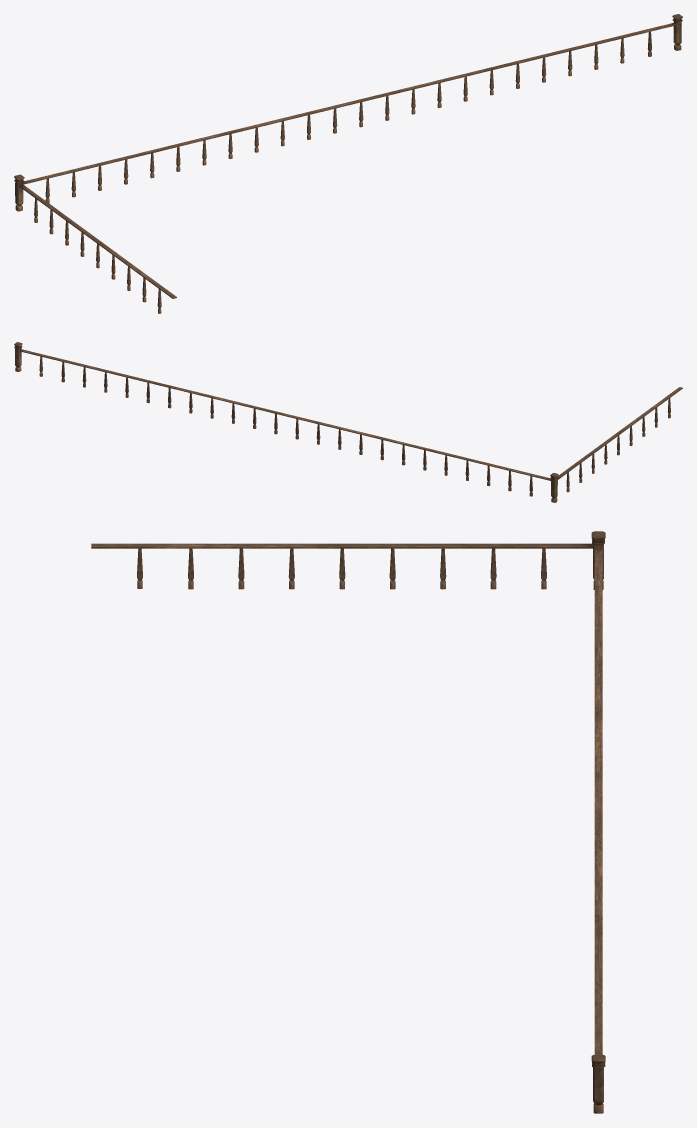
Rendered from railing.glb.
3 views of the same model, one above another, from view 1: azimuth 30°, elevation 25°; view 2: azimuth 150°, elevation 25°; view 3: azimuth 270°, elevation 25° (orthographic). The views are drawn at different scales.
Visible parts, largest first — view 1: biblioteca_barandilla_barandilla_0; view 2: biblioteca_barandilla_barandilla_0; view 3: biblioteca_barandilla_barandilla_0.
Part boxes in pixels (x1,y1,x2,y2): biblioteca_barandilla_barandilla_0: (14,14,682,313); biblioteca_barandilla_barandilla_0: (14,342,682,502); biblioteca_barandilla_barandilla_0: (91,531,605,1113).
Size of the model in its own units: 28.31 by 1.36 by 11.63.
1 material, 1 textured.
